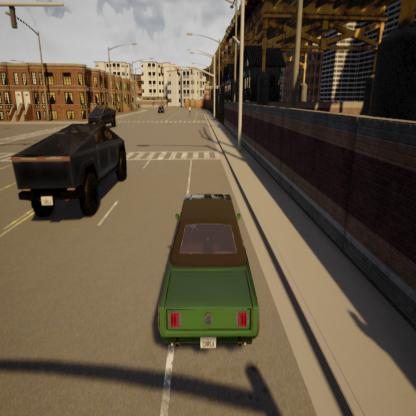Cars: (140, 154, 279, 380), (6, 66, 128, 250), (79, 61, 124, 139), (152, 98, 170, 122)
